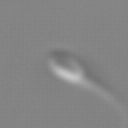normal: (81, 77, 128, 119)
